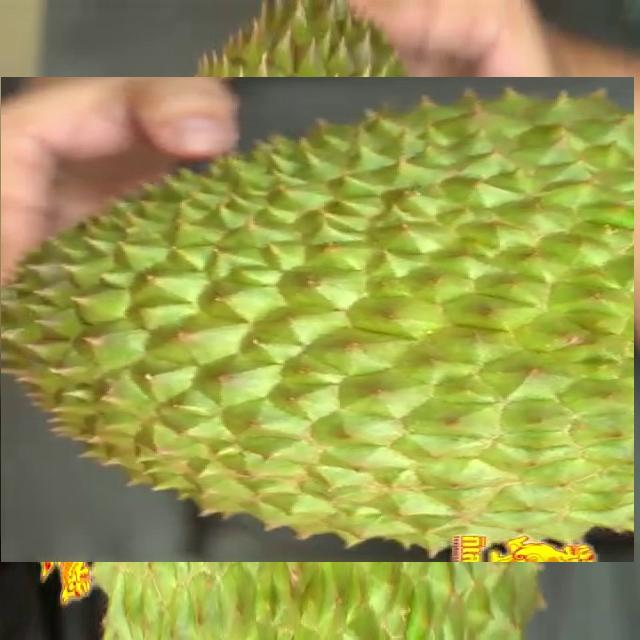durian: (36, 39, 596, 600)
